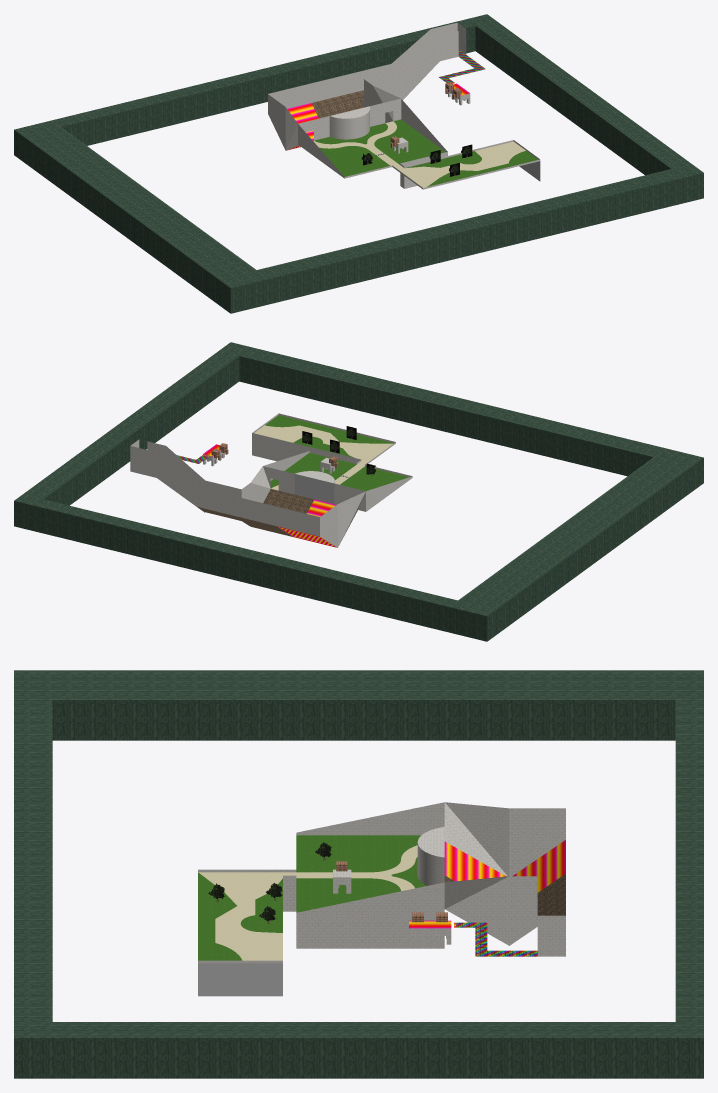
The picture shows the model from 3 angles, top to bottom: view 1: azimuth 30°, elevation 25°; view 2: azimuth 150°, elevation 25°; view 3: azimuth 270°, elevation 25°; orthographic projection. The views are drawn at different scales.
Visible parts, largest first — view 1: course-SKP--gorge, course-SKP--WALUIGI, course-SKP--gras, course-SKP--sAND, course-SKP--pokemon_sword_tree_texture, course-SKP--boost.009; view 2: course-SKP--gorge, course-SKP--WALUIGI, course-SKP--gras, course-SKP--sAND, course-SKP--pokemon_sword_tree_texture, course-SKP--Default_Material.034, course-SKP--boost.009; view 3: course-SKP--gorge, course-SKP--WALUIGI, course-SKP--gras, course-SKP--sAND, course-SKP--Default_Material.034, course-SKP--boost.009, course-SKP--pokemon_sword_tree_texture, course-SKP--Rainbow.
Boxes of the visible parts, box(x1,y1,x2,y2) form: course-SKP--gorge: box(14, 14, 703, 313); course-SKP--WALUIGI: box(268, 22, 540, 189); course-SKP--gras: box(314, 119, 538, 186); course-SKP--sAND: box(313, 121, 525, 187); course-SKP--pokemon_sword_tree_texture: box(311, 90, 363, 118); course-SKP--boost.009: box(286, 82, 469, 150); course-SKP--gorge: box(14, 342, 703, 641); course-SKP--WALUIGI: box(130, 413, 412, 547); course-SKP--gras: box(265, 415, 409, 490); course-SKP--sAND: box(254, 425, 392, 498); course-SKP--pokemon_sword_tree_texture: box(197, 489, 314, 537); course-SKP--Default_Material.034: box(294, 474, 334, 503); course-SKP--boost.009: box(202, 444, 337, 547); course-SKP--gorge: box(14, 670, 703, 1078); course-SKP--WALUIGI: box(198, 802, 565, 963); course-SKP--gras: box(198, 835, 426, 960); course-SKP--sAND: box(198, 845, 417, 960); course-SKP--Default_Material.034: box(198, 963, 282, 996); course-SKP--boost.009: box(409, 840, 565, 928); course-SKP--pokemon_sword_tree_texture: box(444, 874, 565, 915); course-SKP--Rainbow: box(456, 922, 537, 956).
Size of what is drawn, in the model's own units: 208627 by 29036 by 165520.
13 materials, 12 textured.
